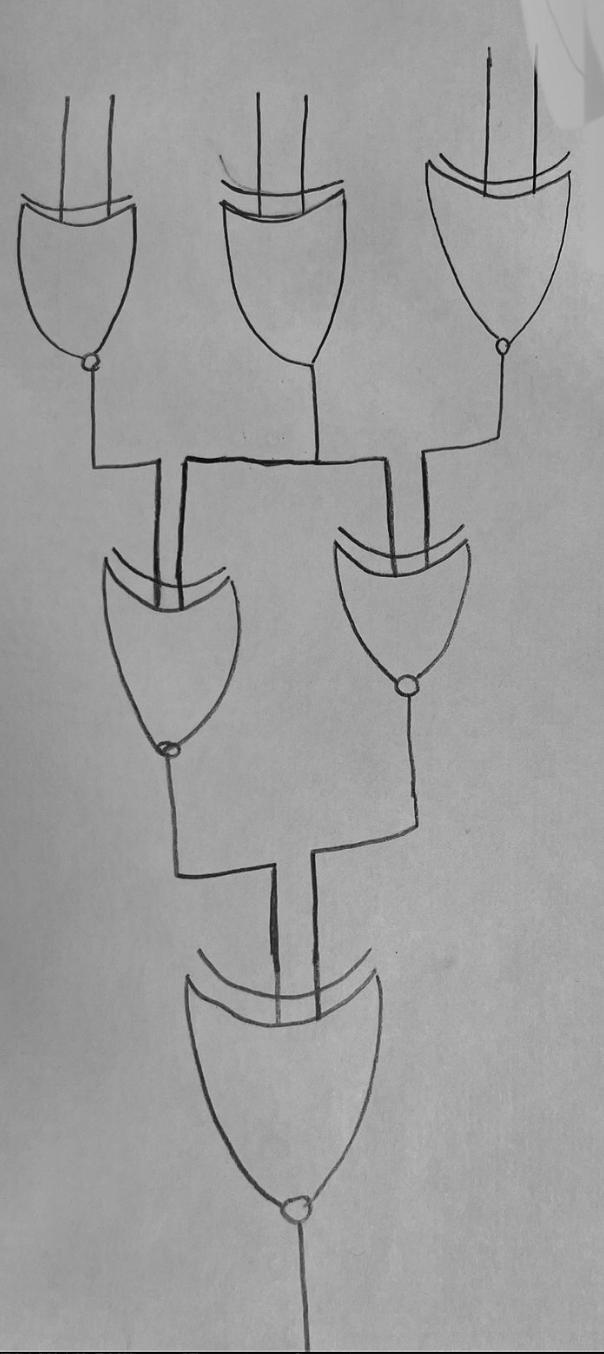XNOR: (170, 927, 428, 1260), (78, 525, 273, 787), (317, 515, 523, 740), (412, 143, 586, 375), (2, 178, 170, 385)
XOR: (192, 145, 369, 388)
